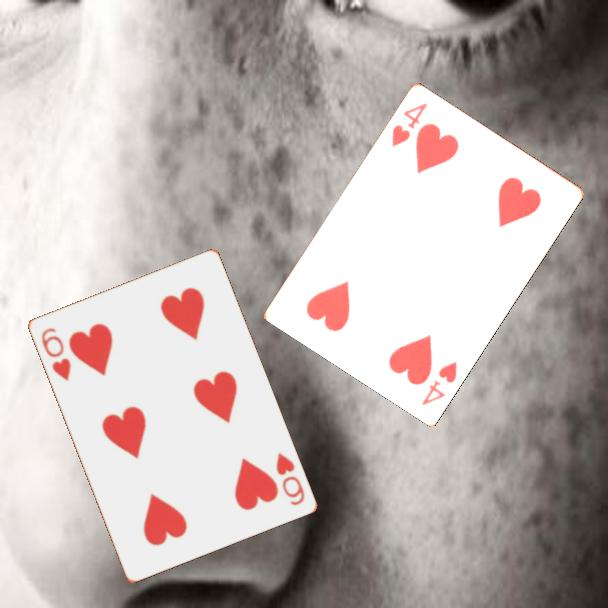h04: (388, 99, 430, 149), (418, 358, 460, 408)
h06: (37, 324, 74, 384), (272, 448, 307, 508)
